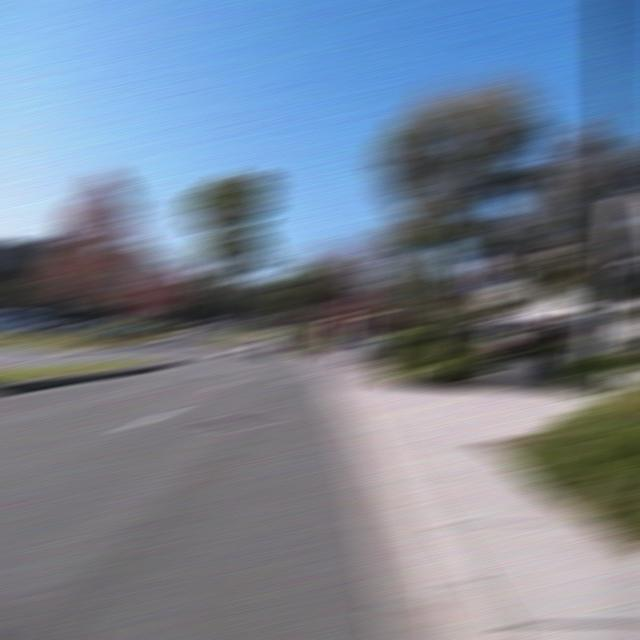stop: (138, 285, 170, 308), (338, 295, 369, 317)
